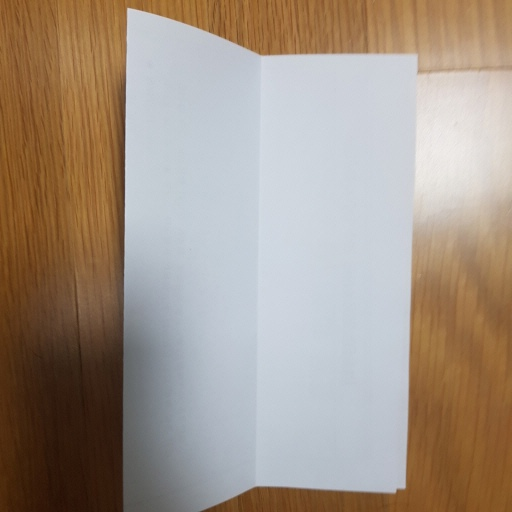Paper_3: (107, 4, 420, 512)
